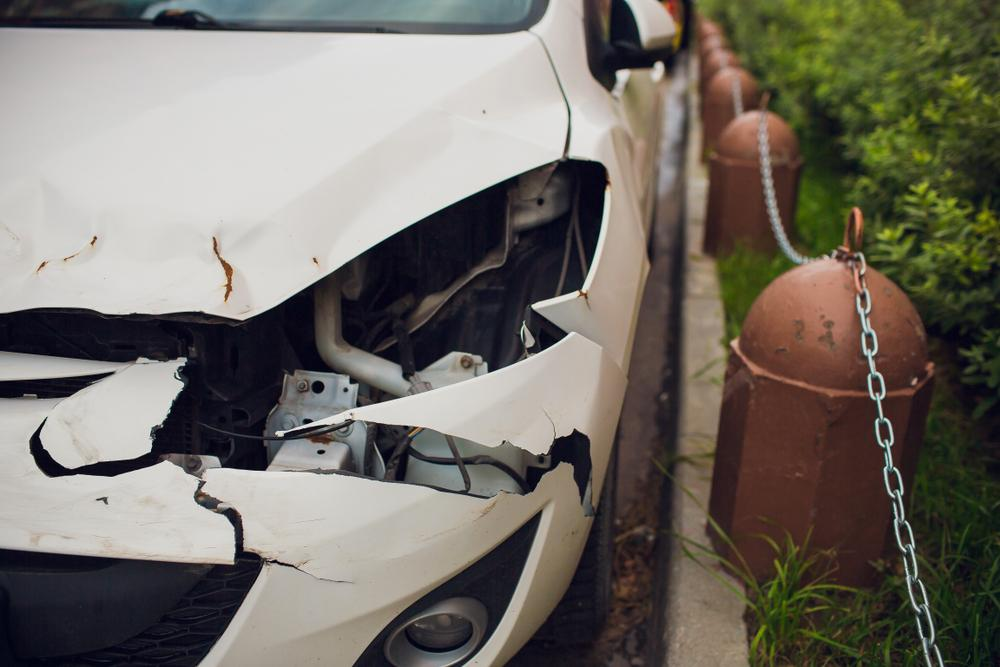crack: (29, 359, 597, 584)
dent: (0, 179, 309, 318)
